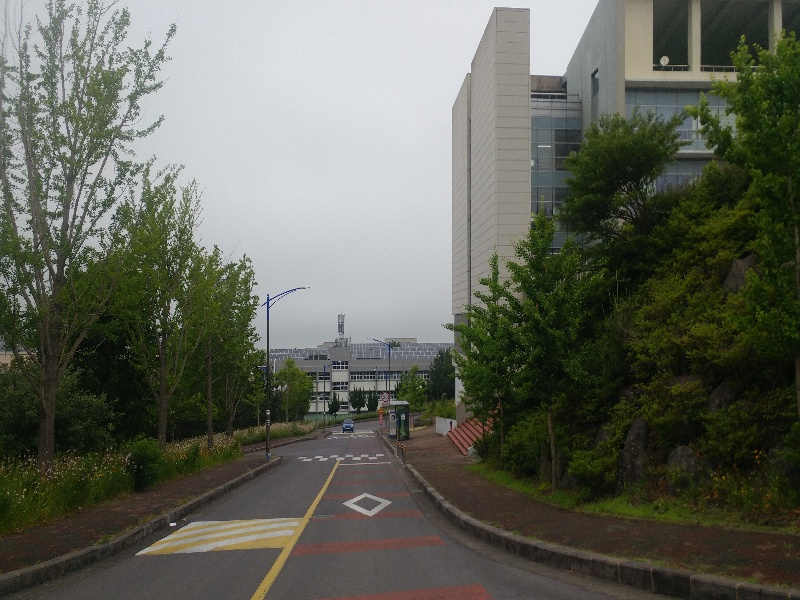Cultural lecture hall: (281, 363, 424, 414)
Engineering College Building 4: (457, 16, 779, 180)
